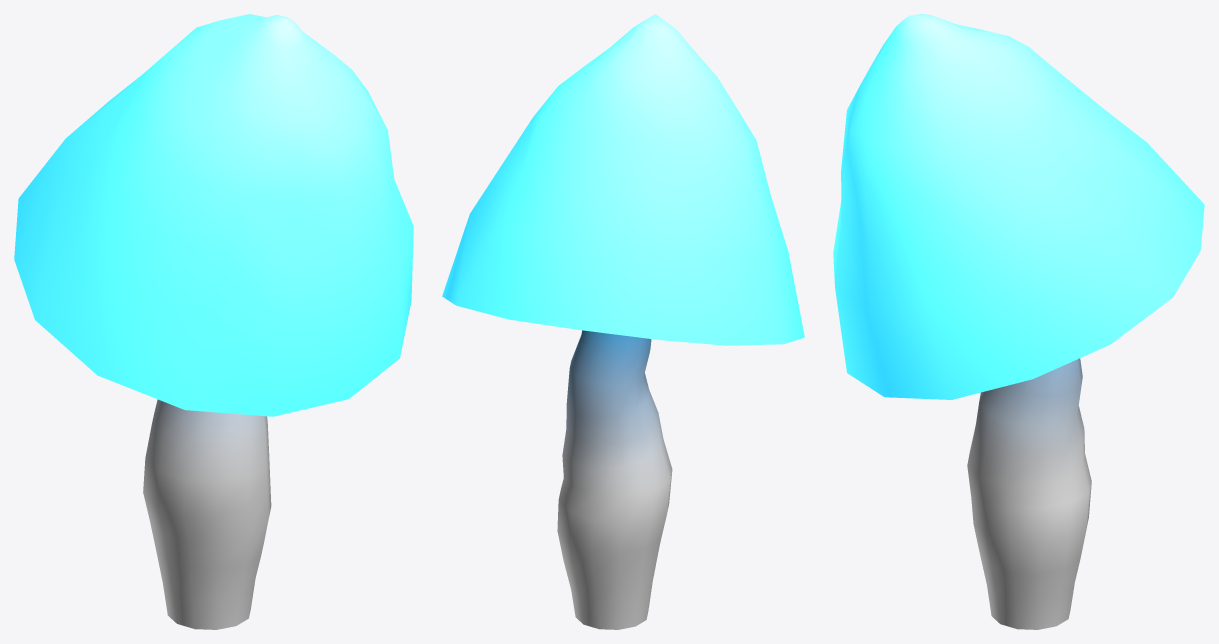
Rendered from mushroom_0.glb.
3 views of the same model, side by side, from view 1: azimuth 30°, elevation 25°; view 2: azimuth 150°, elevation 25°; view 3: azimuth 270°, elevation 25° (orthographic). The views are drawn at different scales.
Parts seen in each view (by area): view 1: geo1; view 2: geo1; view 3: geo1.
Boxes of the visible parts, x1=… form: geo1: x1=14, y1=14, x2=413, y2=629; geo1: x1=442, y1=14, x2=804, y2=629; geo1: x1=833, y1=14, x2=1204, y2=629.
Size of the model in its own units: 0.2243 by 0.3866 by 0.2154.
